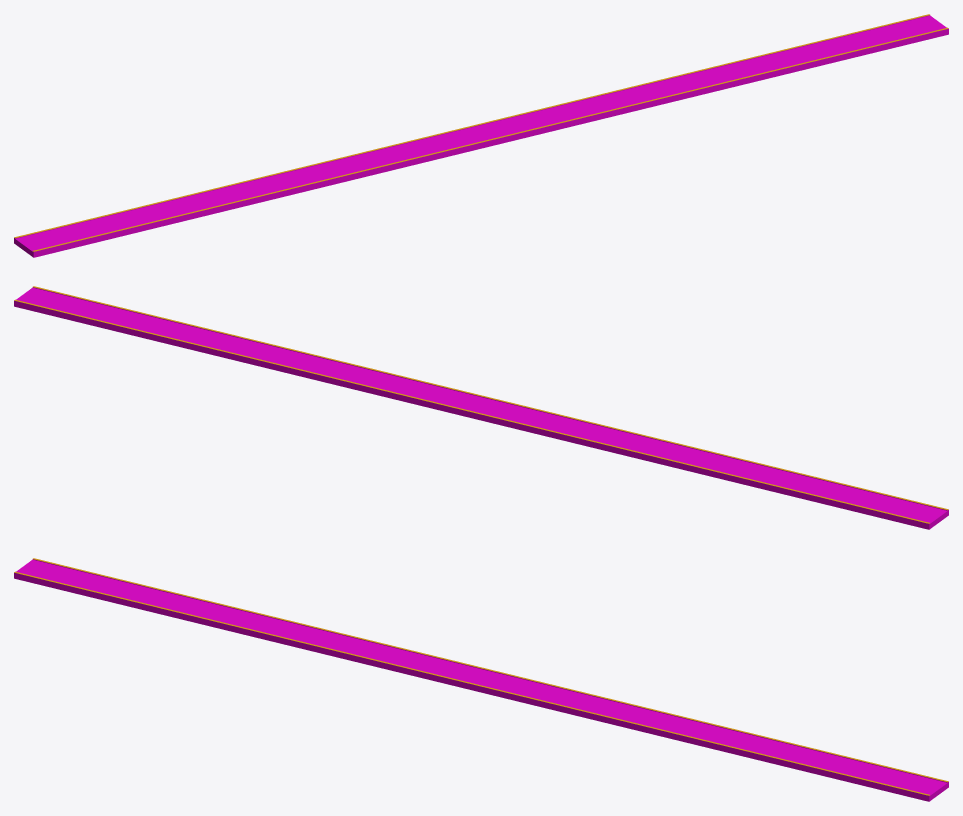
File: ROadd.fbx
The picture shows the model from 3 angles, top to bottom: view 1: azimuth 30°, elevation 25°; view 2: azimuth 150°, elevation 25°; view 3: azimuth 330°, elevation 25°; orthographic projection.
Parts seen in each view (by area): view 1: Cube.001; view 2: Cube.001; view 3: Cube.001.
Part boxes in pixels (left/top/right/bottom): Cube.001: left=14, top=14, right=948, bottom=257; Cube.001: left=14, top=286, right=948, bottom=529; Cube.001: left=14, top=558, right=948, bottom=801.
Bounding box in the file's own units: 16000 × 100 × 600.
